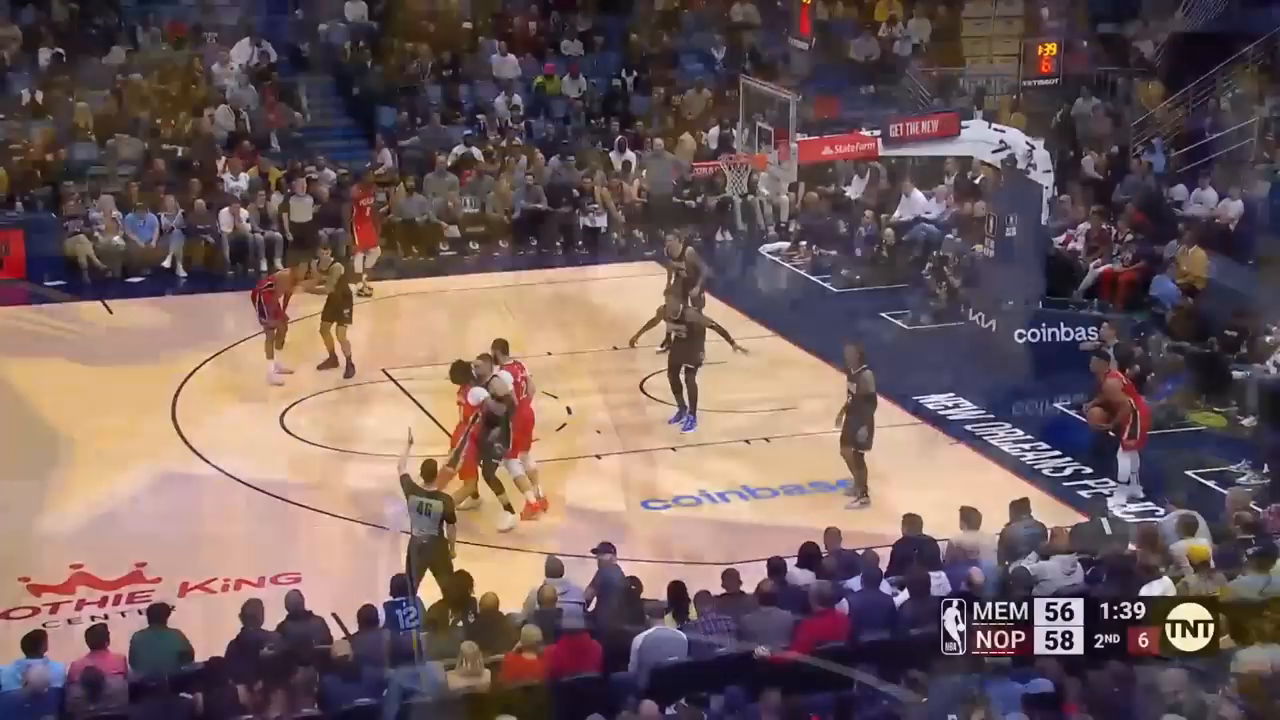ball: (1084, 404, 1111, 431)
net: (717, 151, 751, 197)
